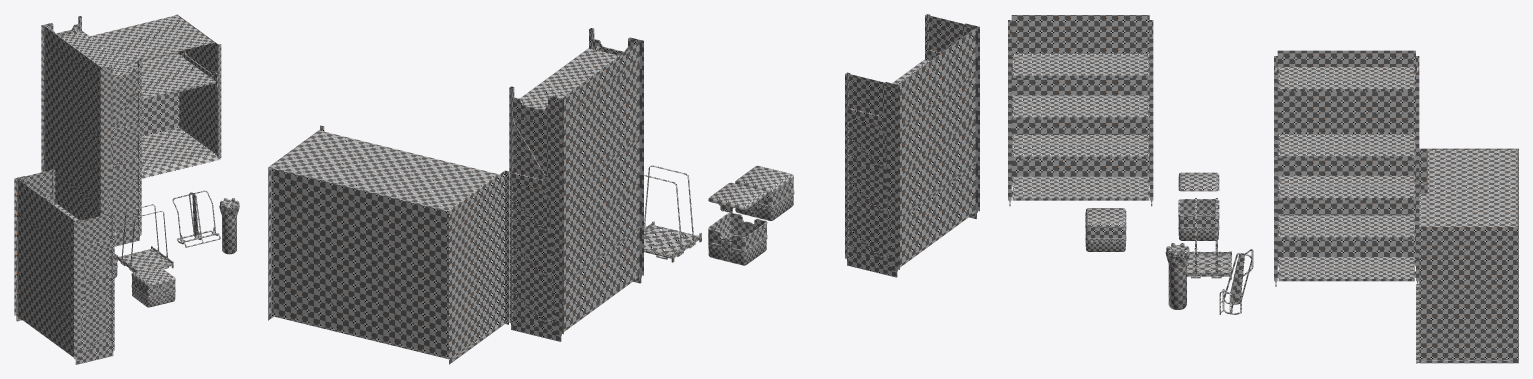
File: Storage_Gameready.FBX
3 views of the same model, side by side, from view 1: azimuth 30°, elevation 25°; view 2: azimuth 150°, elevation 25°; view 3: azimuth 270°, elevation 25° (orthographic). The views are drawn at different scales.
Parts seen in each view (by area): view 1: xgxg; view 2: xgxg; view 3: xgxg.
Part boxes in pixels (bbox=[...]): xgxg: bbox=[14, 14, 239, 364]; xgxg: bbox=[268, 14, 979, 364]; xgxg: bbox=[1008, 15, 1518, 363].
Size of the model in its own units: 428 by 231 by 498.
Materials: 1 (1 with a texture image).
